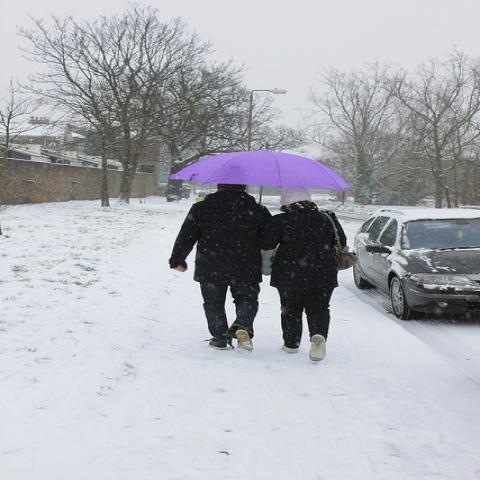car: (349, 204, 479, 322)
